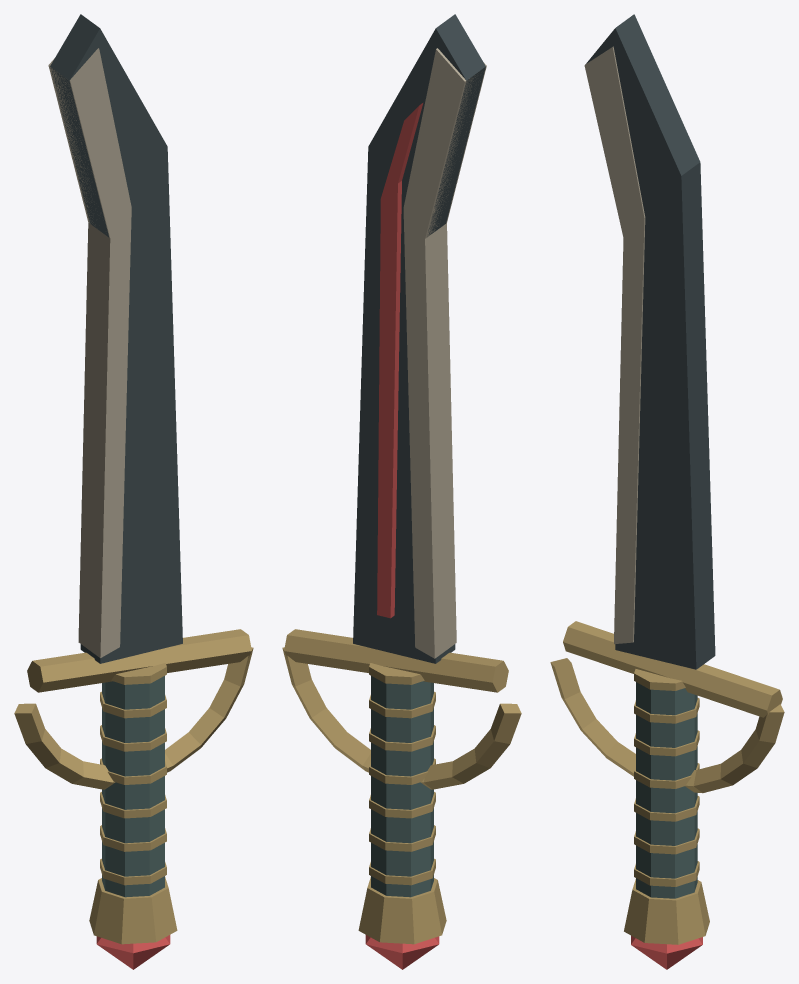
Rendered from Arsenal_RedThread.fbx.
The picture shows the model from 3 angles, left to right: view 1: azimuth 30°, elevation 25°; view 2: azimuth 150°, elevation 25°; view 3: azimuth 330°, elevation 25°; orthographic projection. The views are drawn at different scales.
Parts seen in each view (by area): view 1: Arsenal_RedThread; view 2: Arsenal_RedThread; view 3: Arsenal_RedThread.
Part boxes in pixels (x1,y1,x2,y2): Arsenal_RedThread: [14, 14, 253, 969]; Arsenal_RedThread: [282, 14, 521, 969]; Arsenal_RedThread: [550, 14, 784, 969].
Size of the model in its own units: 0.3901 by 1.49 by 0.1288.
